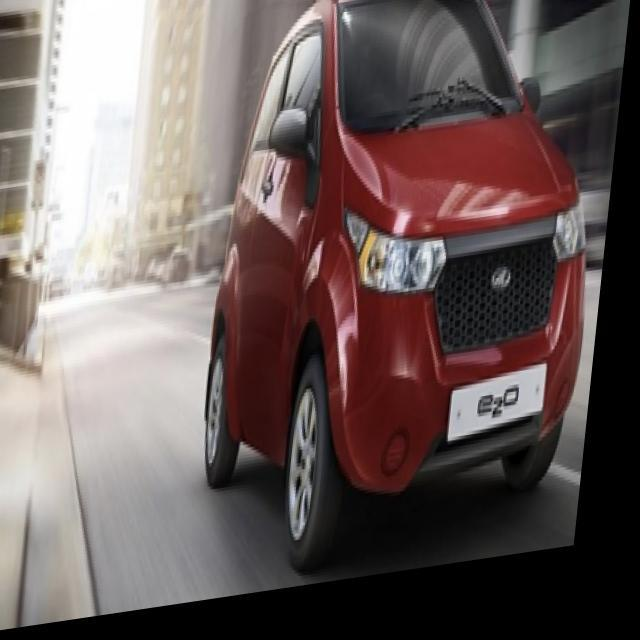license_plate: (458, 382, 555, 443)
